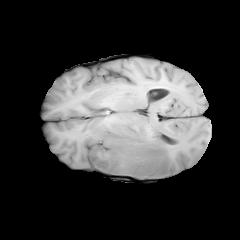glioma: (85, 121, 173, 178)
